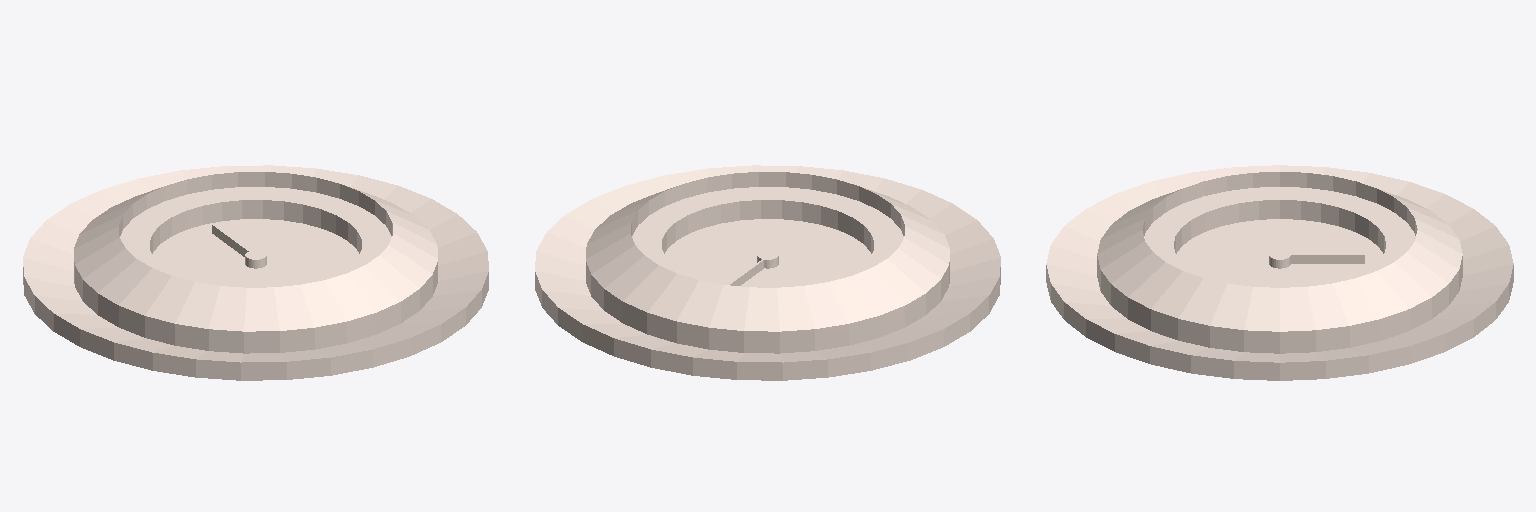
The model's file is clock.obj.
3 views of the same model, side by side, from view 1: azimuth 30°, elevation 25°; view 2: azimuth 150°, elevation 25°; view 3: azimuth 270°, elevation 25° (orthographic).
Parts seen in each view (by area): view 1: Cylinder; view 2: Cylinder; view 3: Cylinder.
Boxes of the visible parts, x1=… form: Cylinder: x1=23, y1=165, x2=488, y2=380; Cylinder: x1=535, y1=165, x2=1000, y2=380; Cylinder: x1=1046, y1=165, x2=1513, y2=380.
Bounding box in the file's own units: 7.88 × 0.9764 × 7.88.